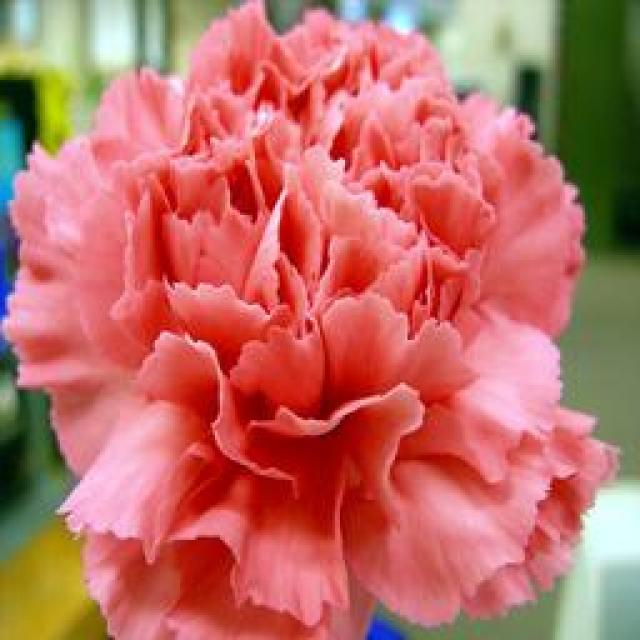carnation: (0, 0, 618, 640)
